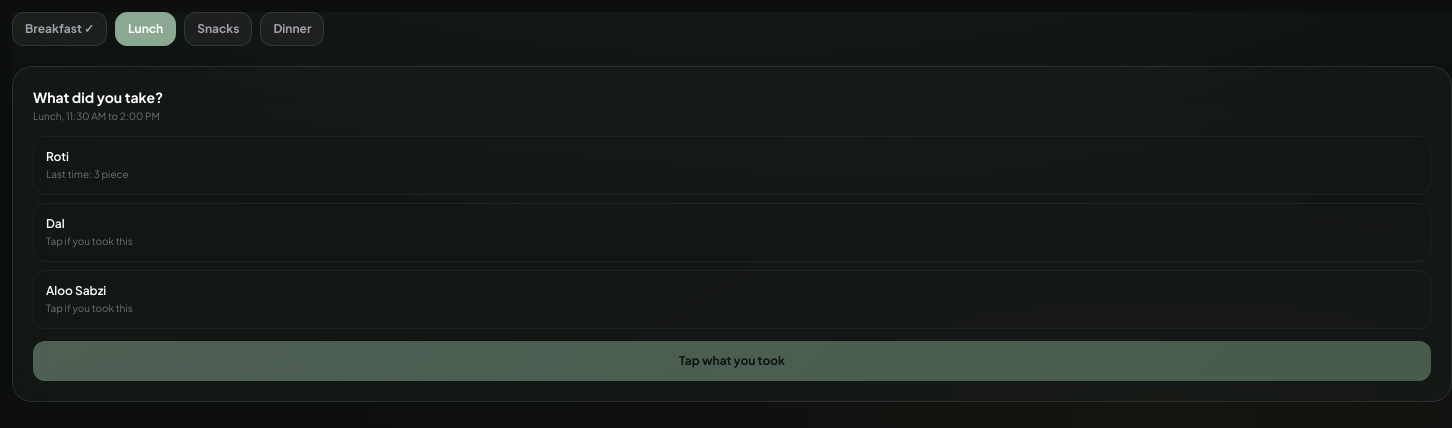
Menu meal logging › lets the user change the amount in either direction
What coordinates should you click on to do the following:
click the text "Dal"
I would click on:
 (55, 224)
Its box is [46,216,65,231].
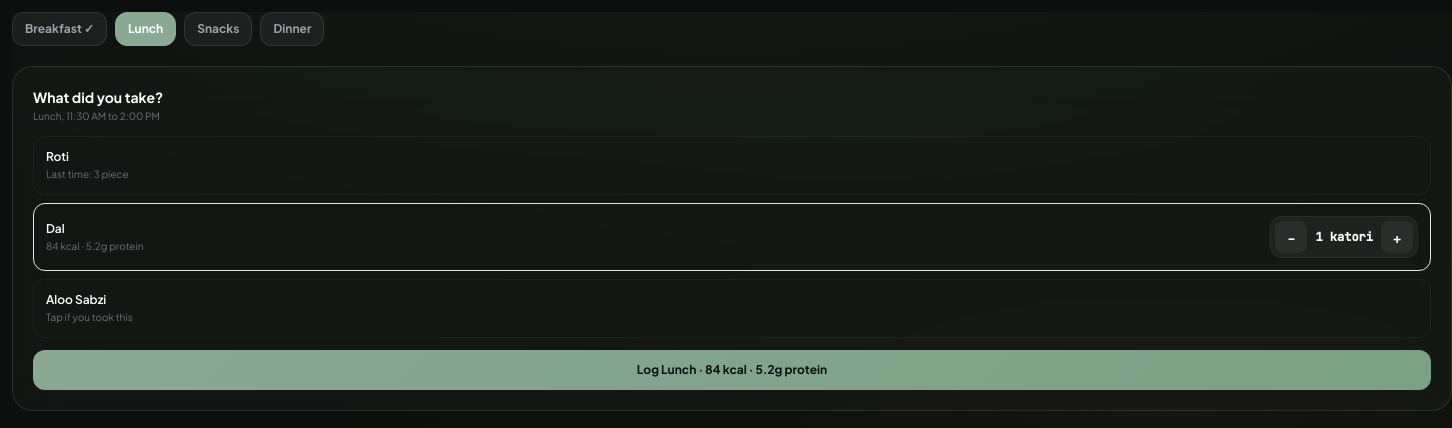
What coordinates should you click on to do the following:
click the button named "More Dal"
I would click on:
 (1397, 237)
Its box is [1381,221,1413,253].
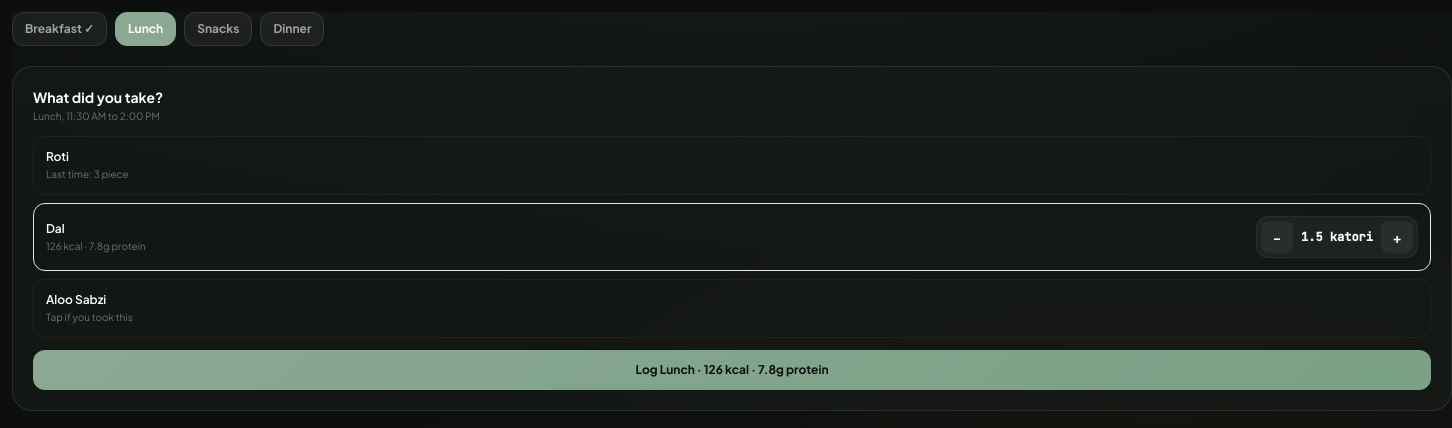
Now the text "1.5 katori" is shown, box [1301,229,1373,245]
What coordinates should you click on to do the following:
click the button named "Less Dal"
I would click on:
 (1277, 237)
Its box is [1261,221,1293,253].
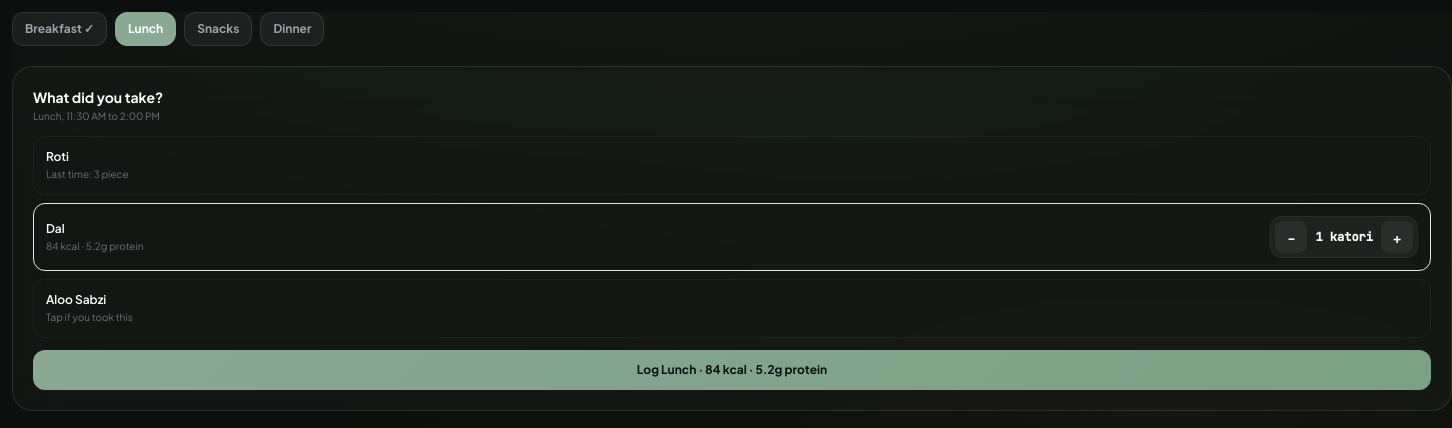
What coordinates should you click on to do the following:
click the button named "Less Dal"
I would click on:
 (1291, 237)
Its box is [1275,221,1307,253].
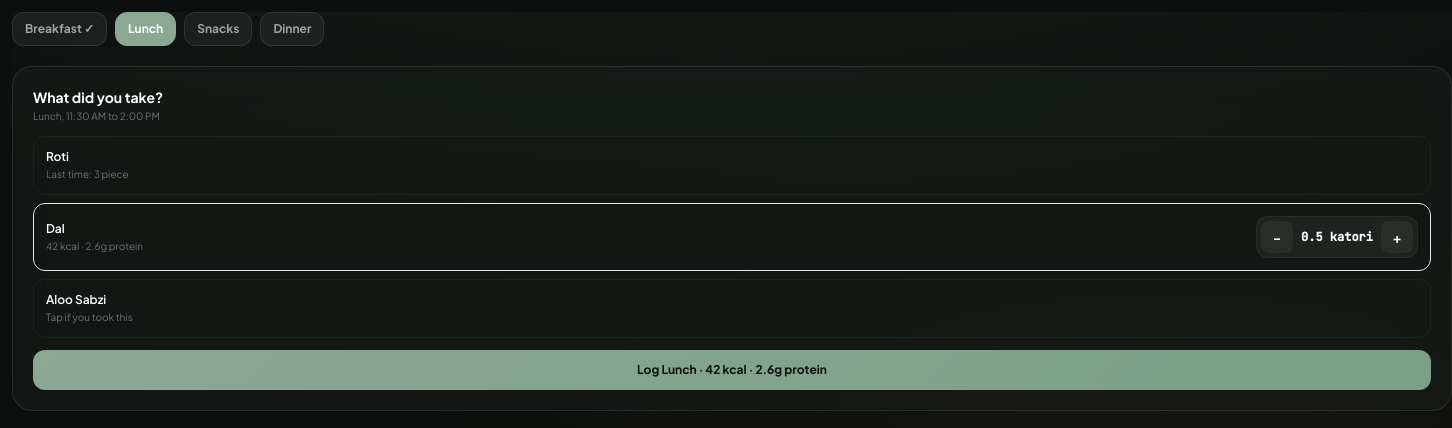
Now the text "0.5 katori" is shown, box [1301,229,1373,245]
